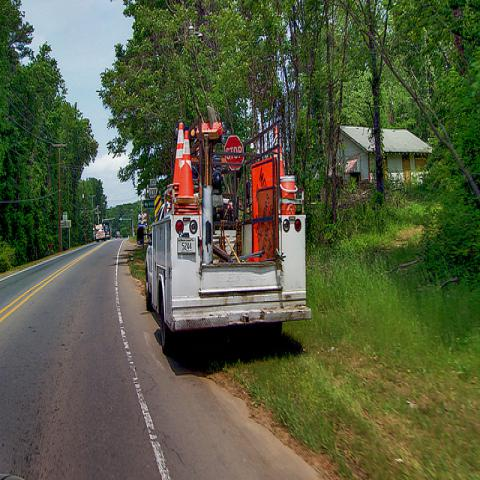car: (116, 231, 121, 239)
truck: (142, 121, 313, 355), (96, 227, 105, 243)
